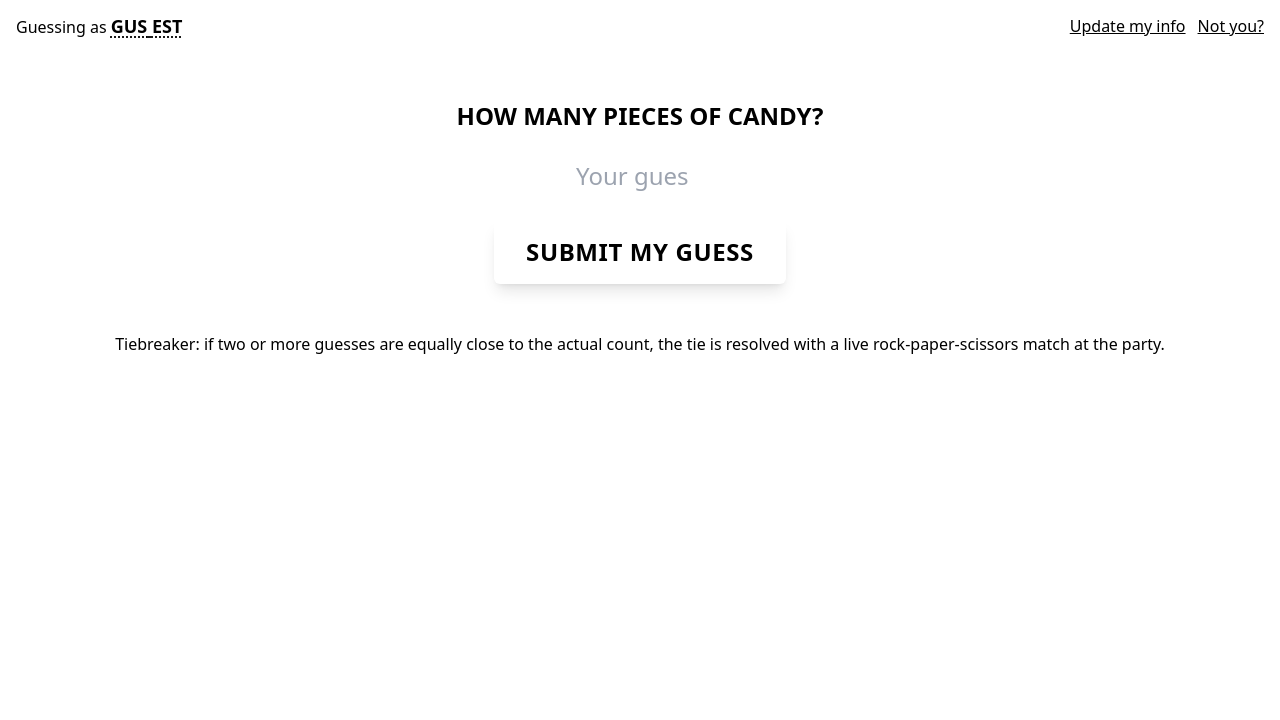
Test: CandyCountApp identity bar › 'Update my info' opens GuestUpdateInfoModal for the current guest
Step 1. Click the button "Update my info" → point(1128, 26), box [1070,14,1186,38]
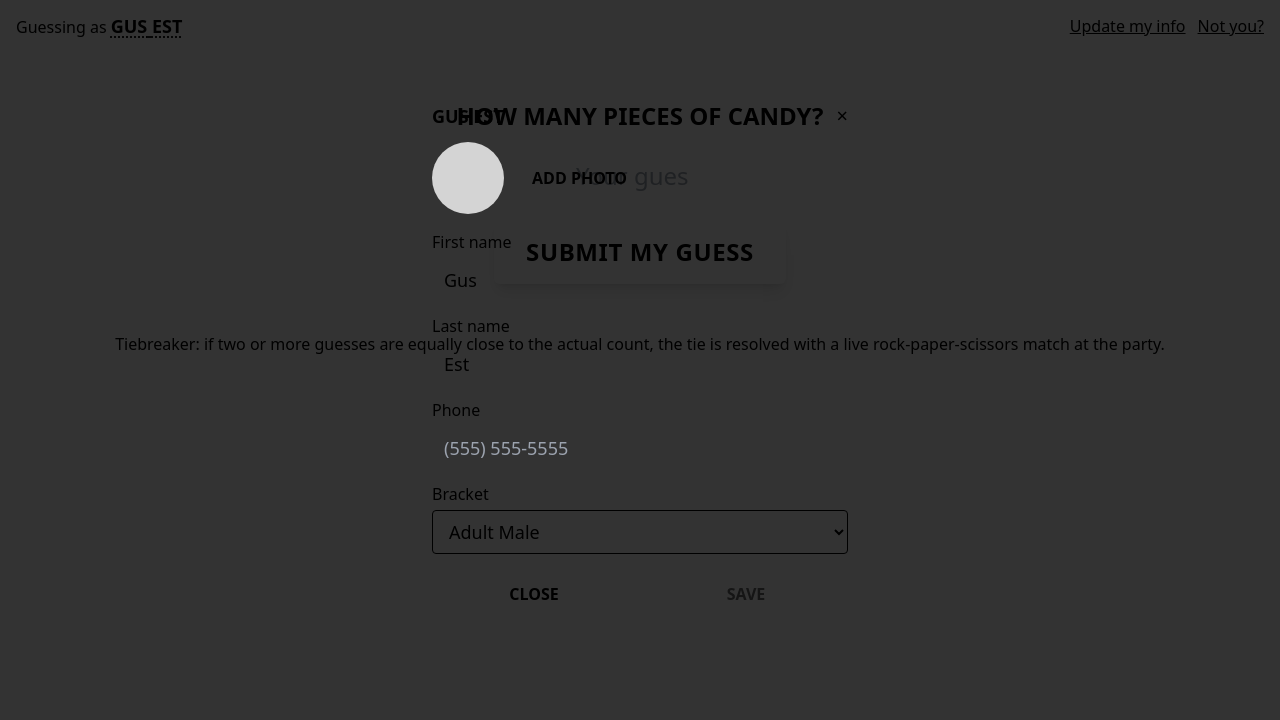
Now the field showing "Gus" below "First name" is shown, box [432,258,848,302]
